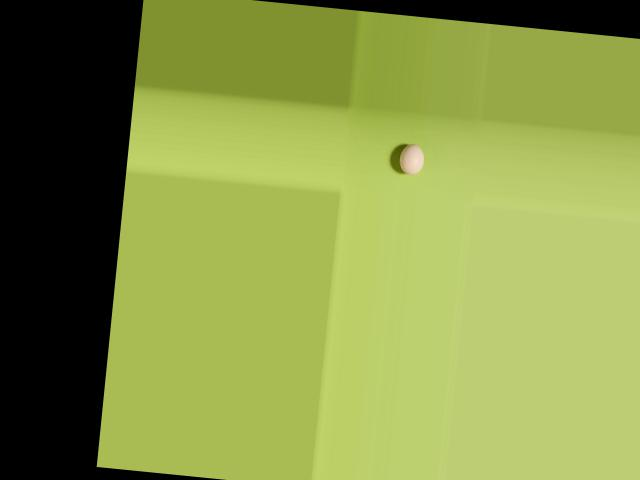egg: (398, 141, 424, 175)
